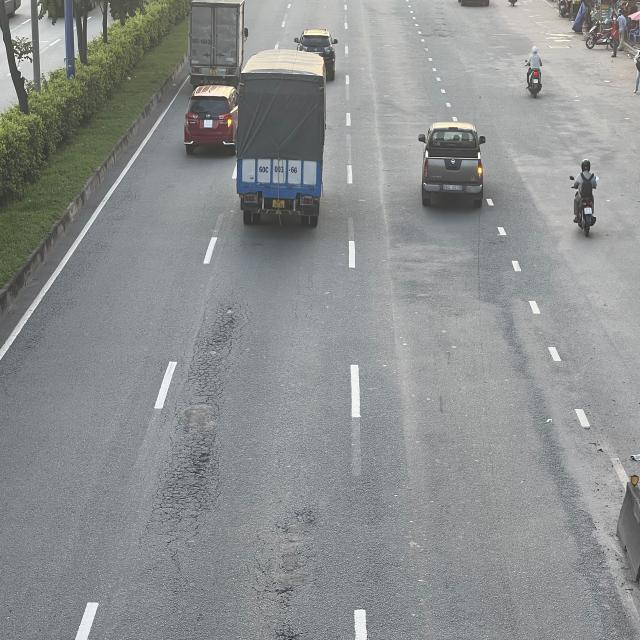car: (418, 124, 486, 212), (182, 86, 240, 155)
truck: (238, 50, 335, 224), (188, 0, 248, 82)
